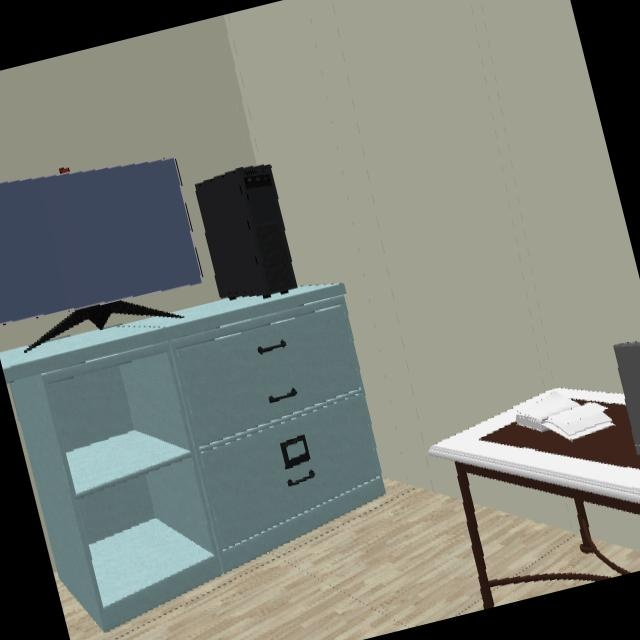book: (517, 390, 614, 441)
cabinet: (6, 286, 384, 625)
laptop: (614, 342, 640, 470)
monitor: (0, 158, 204, 325)
table: (431, 390, 640, 609)
